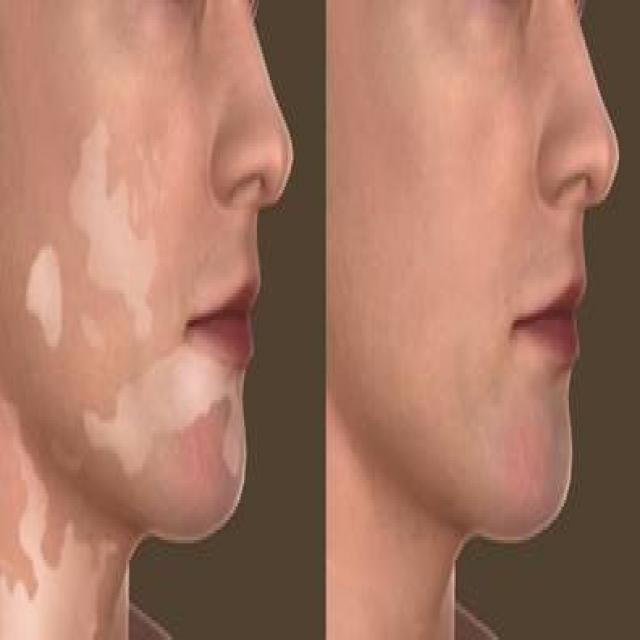vitiligo: (6, 86, 242, 640)
